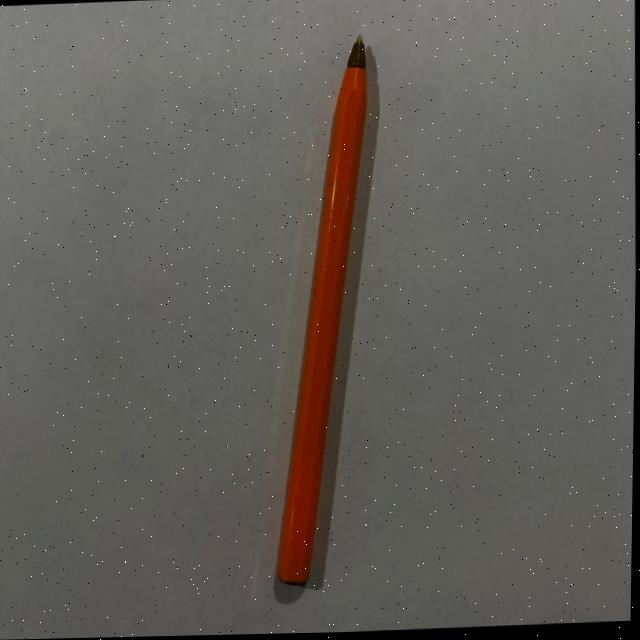pencil: (279, 35, 367, 586)
